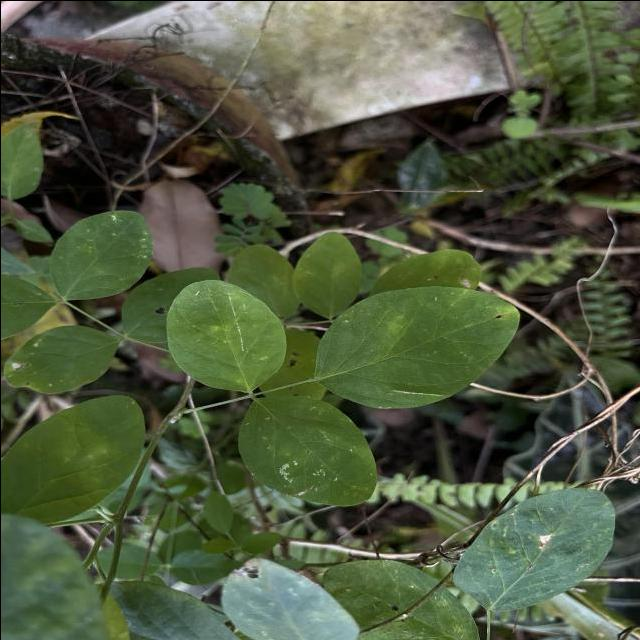Clitoria ternatea: (312, 284, 520, 409), (235, 392, 377, 507), (165, 278, 287, 392), (47, 208, 154, 301)
